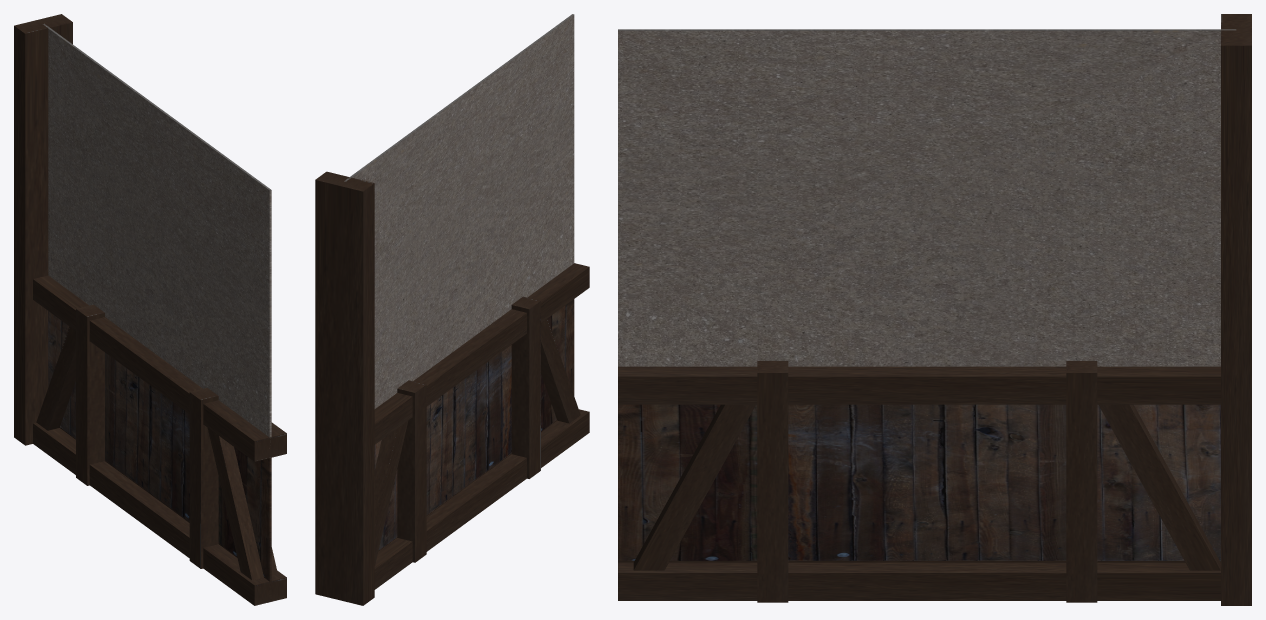
Rendered from OutdoorArchitecture_BasicWall04_RightEdge_BShortt.fbx.
3 renders of one model, left to right at view 1: azimuth 30°, elevation 25°; view 2: azimuth 150°, elevation 25°; view 3: azimuth 270°, elevation 25°, orthographic. The views are drawn at different scales.
Parts seen in each view (by area): view 1: OutdoorArchitecture_BasicWall04_RightEdge_BShortt; view 2: OutdoorArchitecture_BasicWall04_RightEdge_BShortt; view 3: OutdoorArchitecture_BasicWall04_RightEdge_BShortt.
Boxes of the visible parts, x1,y1,x2,y2 form: OutdoorArchitecture_BasicWall04_RightEdge_BShortt: (14, 14, 286, 605); OutdoorArchitecture_BasicWall04_RightEdge_BShortt: (315, 14, 589, 605); OutdoorArchitecture_BasicWall04_RightEdge_BShortt: (618, 14, 1251, 605).
Size of the model in its own units: 36.37 by 300 by 308.
